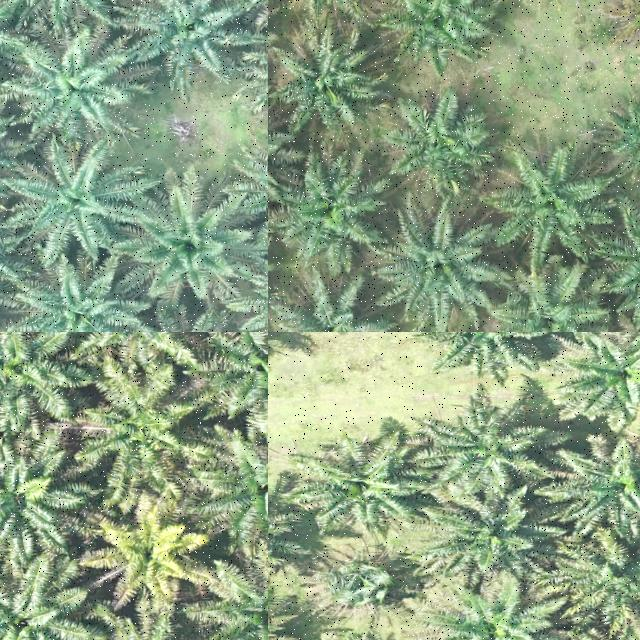Ganoderma: (111, 518, 186, 592), (615, 0, 640, 43)
